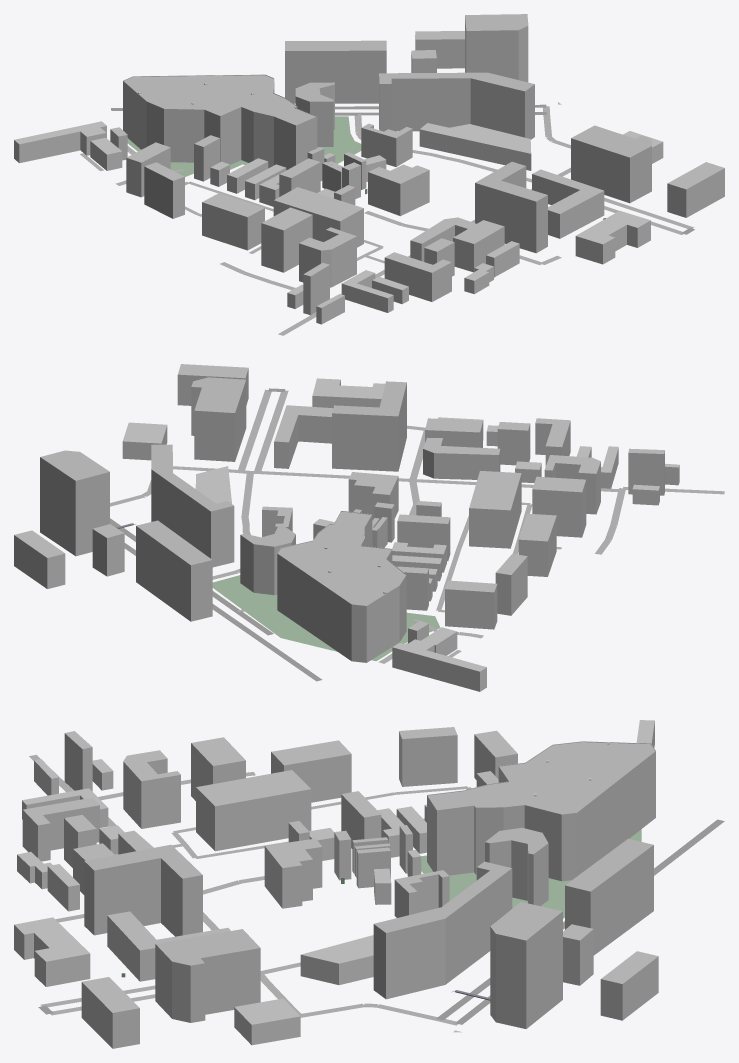
The picture shows the model from 3 angles, top to bottom: view 1: azimuth 30°, elevation 25°; view 2: azimuth 150°, elevation 25°; view 3: azimuth 270°, elevation 25°; orthographic projection. The views are drawn at different scales.
Bounding box in the file's own units: 590 × 80.2 × 583.
